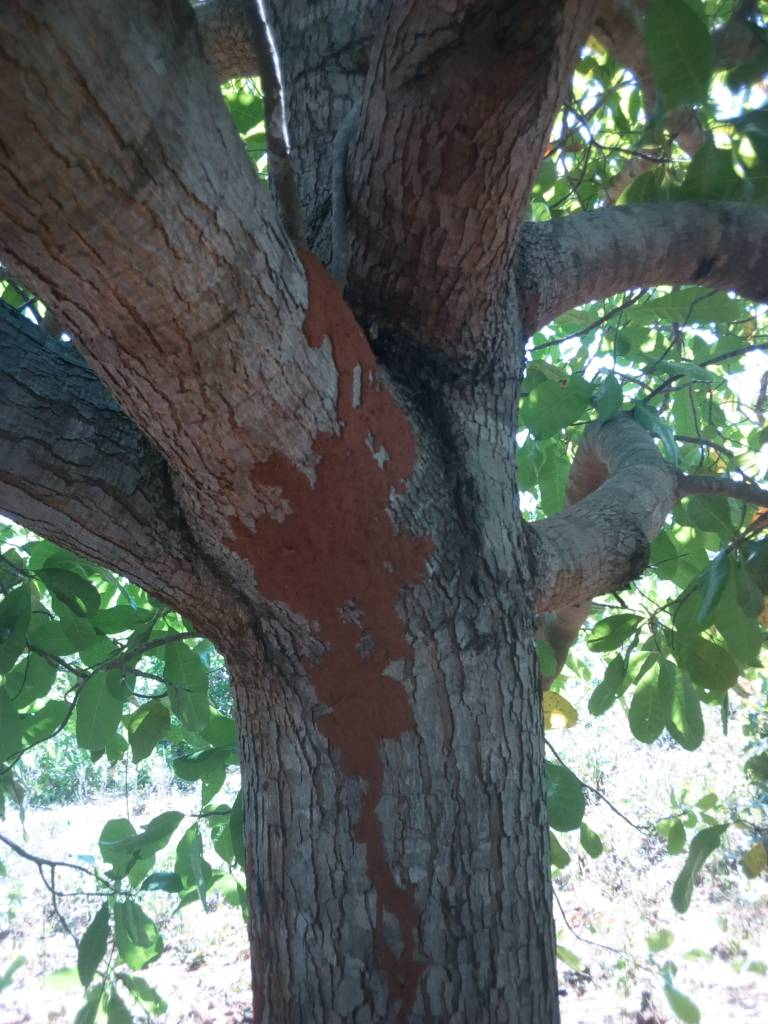Termites: (236, 447, 450, 997), (294, 235, 415, 450)
